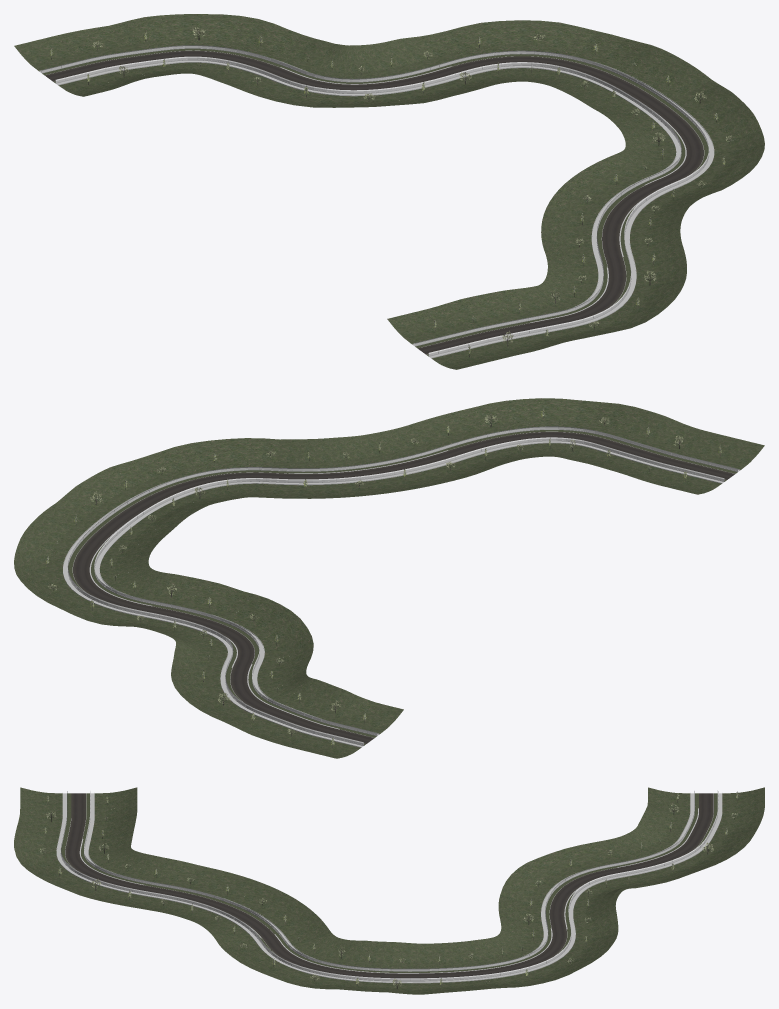
3 views of the same model, one above another, from view 1: azimuth 30°, elevation 25°; view 2: azimuth 150°, elevation 25°; view 3: azimuth 270°, elevation 25° (orthographic). The views are drawn at different scales.
Parts seen in each view (by area): view 1: Grass, Road, Track, Wirefence, Trees; view 2: Grass, Road, Track, Wirefence, Trees; view 3: Grass, Road, Track, Wirefence, Trees, Curbs.
Part boxes in pixels (x1,y1,x2,y2): Grass: (14, 14, 764, 369); Road: (45, 50, 703, 354); Track: (39, 45, 714, 358); Wirefence: (42, 45, 709, 355); Trees: (50, 27, 733, 357); Grass: (14, 398, 764, 758); Road: (73, 432, 734, 743); Track: (63, 426, 740, 747); Wirefence: (68, 426, 737, 745); Trees: (46, 408, 721, 748); Grass: (14, 787, 764, 994); Road: (65, 793, 713, 978); Track: (56, 791, 722, 983); Wirefence: (61, 791, 717, 980); Trees: (40, 791, 738, 988); Curbs: (80, 808, 698, 973).
Size of what is drawn, in the model's own units: 57397 by 2389 by 89738.
